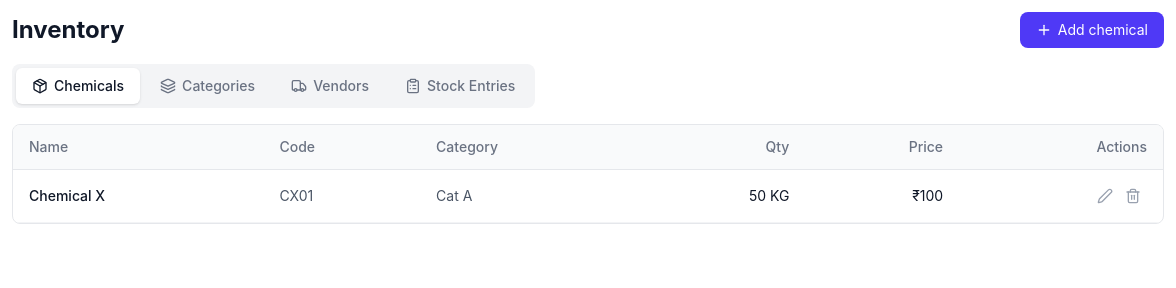
Test: Inventory › with loaded data › Vendors tab › shows empty state
The width and height of the screenshot is (1176, 288).
Check: the heading "Inventory" is shown, box [12,14,124,46]
Click the button "Vendors": (330, 86) [275,68,385,104]
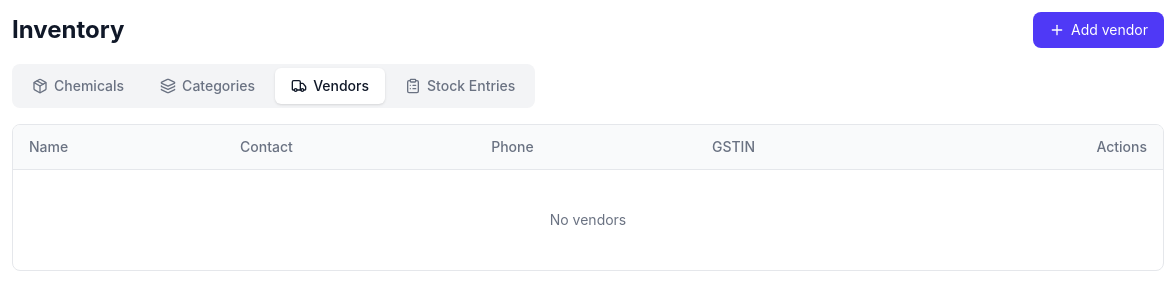
Check: the text "No vendors" is shown, box [13,170,1163,270]
